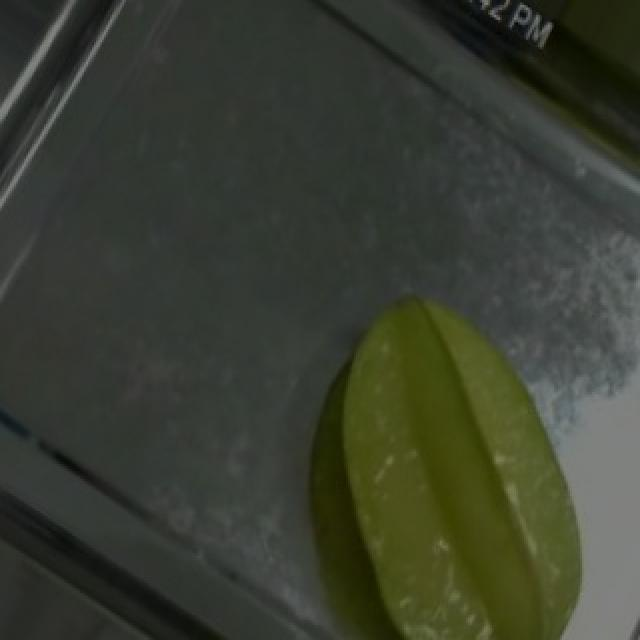fruit: (290, 268, 638, 640)
